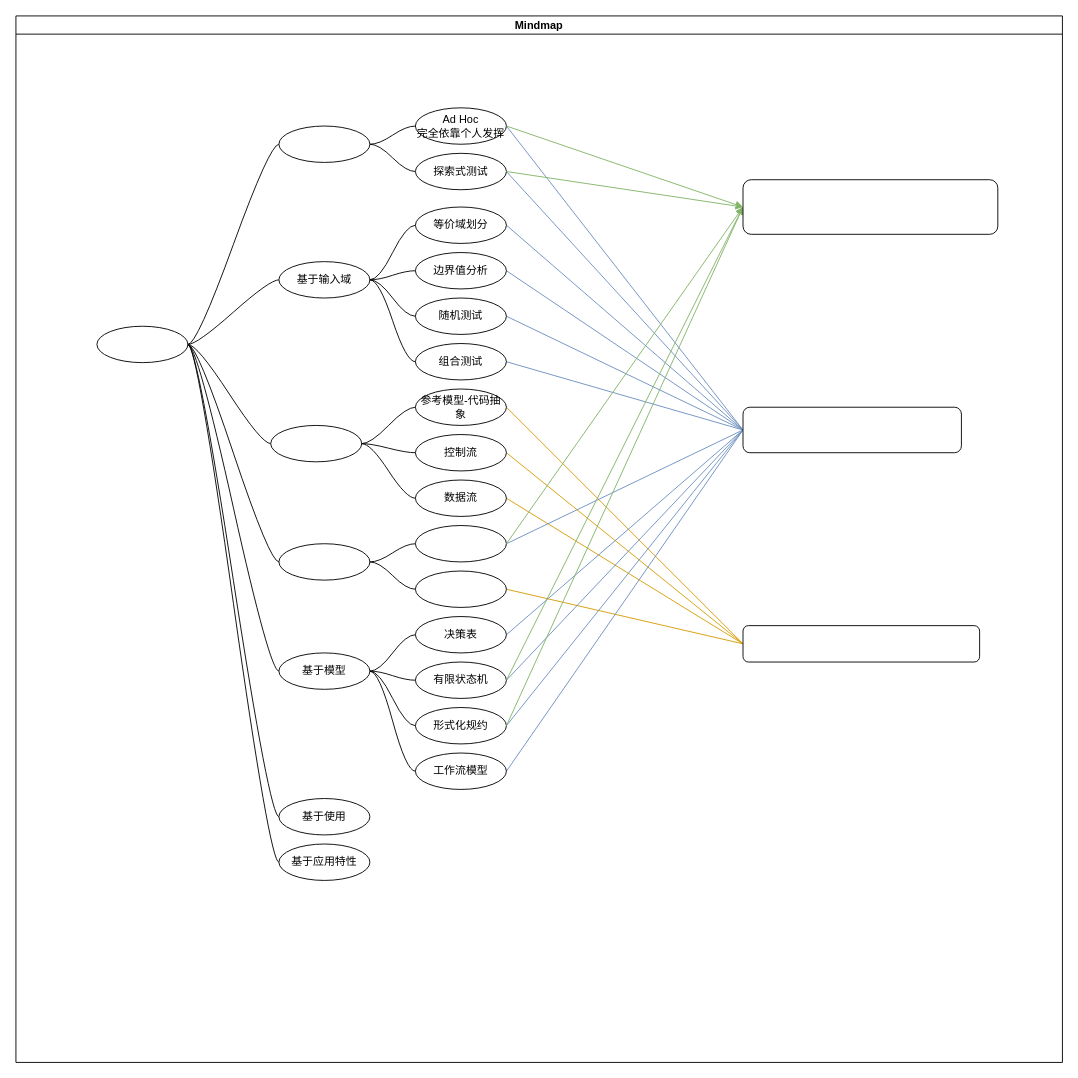
This 1078x1078 diagram has some shape labels left out. The shapes that lost their labels are listed below. From the top down, each one's centre as x and y in pixels, then its label:
At point (324, 143): "基于直觉/经验".
At point (870, 206): "可用于设计测试行为/操作的方法".
At point (142, 344): "测试技术".
At point (316, 443): "基于代码".
At point (851, 429): "可用于生成测试数据的方法".
At point (324, 561): "基于错误".
At point (460, 543): "错误猜测".
At point (460, 588): "变异测试".
At point (861, 643): "可用于评价测试充分性的方法".
